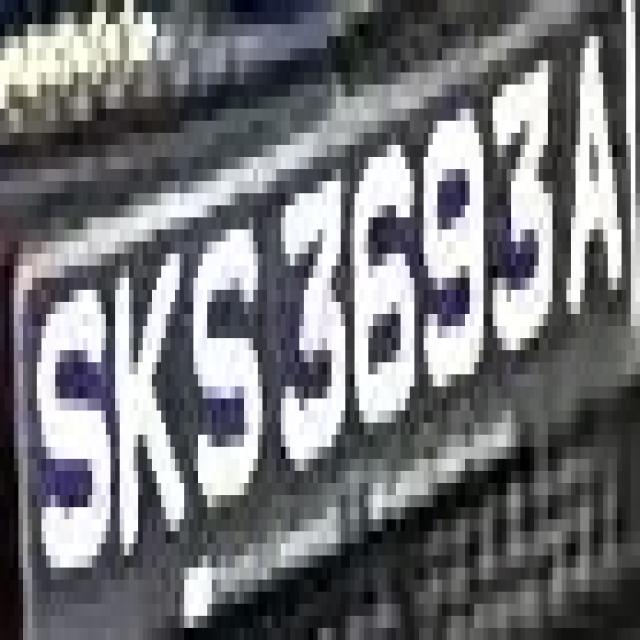3: (267, 169, 359, 471), (488, 61, 562, 387)
6: (341, 109, 424, 446)
9: (414, 96, 484, 398)
A: (566, 0, 631, 350)
K: (101, 229, 184, 592)
S: (179, 230, 281, 556), (23, 266, 106, 580)
